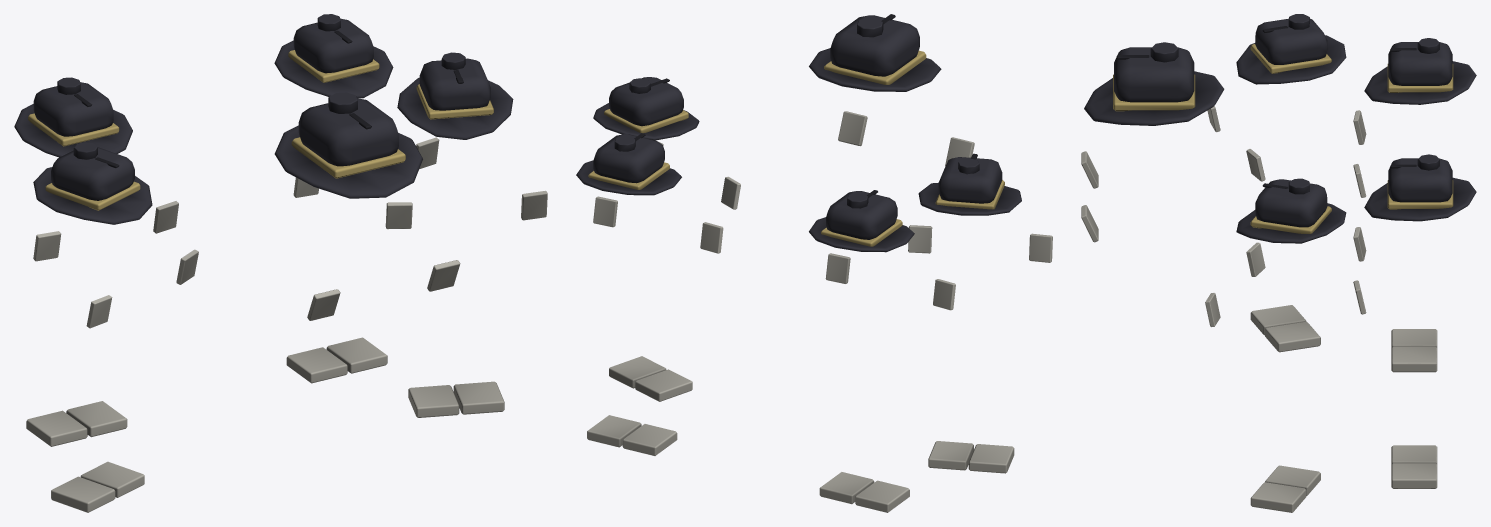
The model's file is velvet-mob-lod1.glb.
3 renders of one model, left to right at view 1: azimuth 30°, elevation 25°; view 2: azimuth 150°, elevation 25°; view 3: azimuth 270°, elevation 25°, orthographic. The views are drawn at different scales.
Parts seen in each view (by area): view 1: cap_hat, att2_hat, att3_hat, att0_hat, att1_hat, att3_leg_r_trim, att0_leg_r_trim, att1_leg_r_trim, att2_leg_r_trim, att2_leg_l_trim, att0_leg_l_trim, att1_leg_l_trim (+7 smaller); view 2: cap_hat, att2_hat, att0_hat, att1_hat, att3_hat, att2_leg_r_trim, att0_leg_r_trim, att1_leg_r_trim, att3_leg_r_trim, att3_leg_l_trim, att1_leg_l_trim, att0_leg_l_trim (+8 smaller); view 3: cap_hat, att3_hat, att0_hat, att1_hat, att2_hat, att2_leg_l_trim, att3_leg_l_trim, att1_leg_l_trim, att0_leg_l_trim, att3_leg_r_trim, att2_leg_r_trim, att0_leg_r_trim (+2 smaller).
Part boxes in pixels (x1,y1,x2,y2): cap_hat: (274,92,422,198); att2_hat: (397,52,513,139); att3_hat: (33,142,152,224); att0_hat: (274,14,393,98); att1_hat: (14,77,132,157); att3_leg_r_trim: (51,476,115,512); att0_leg_r_trim: (286,347,347,383); att1_leg_r_trim: (26,410,87,446); att2_leg_r_trim: (408,385,459,417); att2_leg_l_trim: (453,381,504,414); att0_leg_l_trim: (326,337,387,373); att1_leg_l_trim: (66,401,127,437); cap_hat: (809,14,941,91); att2_hat: (593,77,699,140); att0_hat: (576,133,681,195); att1_hat: (809,190,914,252); att3_hat: (918,153,1021,215); att2_leg_r_trim: (635,369,692,401); att0_leg_r_trim: (622,424,677,455); att1_leg_r_trim: (855,480,909,512); att3_leg_r_trim: (968,444,1014,473); att3_leg_l_trim: (928,441,973,470); att1_leg_l_trim: (819,472,874,504); att0_leg_l_trim: (587,415,641,447); cap_hat: (1084,42,1224,125); att3_hat: (1236,14,1346,84); att0_hat: (1364,154,1476,221); att1_hat: (1364,38,1476,104); att2_hat: (1236,178,1346,243); att2_leg_l_trim: (1250,482,1306,512); att3_leg_l_trim: (1265,321,1320,352); att1_leg_l_trim: (1391,346,1437,372); att0_leg_l_trim: (1391,463,1437,488); att3_leg_r_trim: (1250,305,1306,335); att2_leg_r_trim: (1265,465,1320,495); att0_leg_r_trim: (1391,445,1437,464).
Size of the model in its own units: 2.21 by 1.82 by 1.78.
